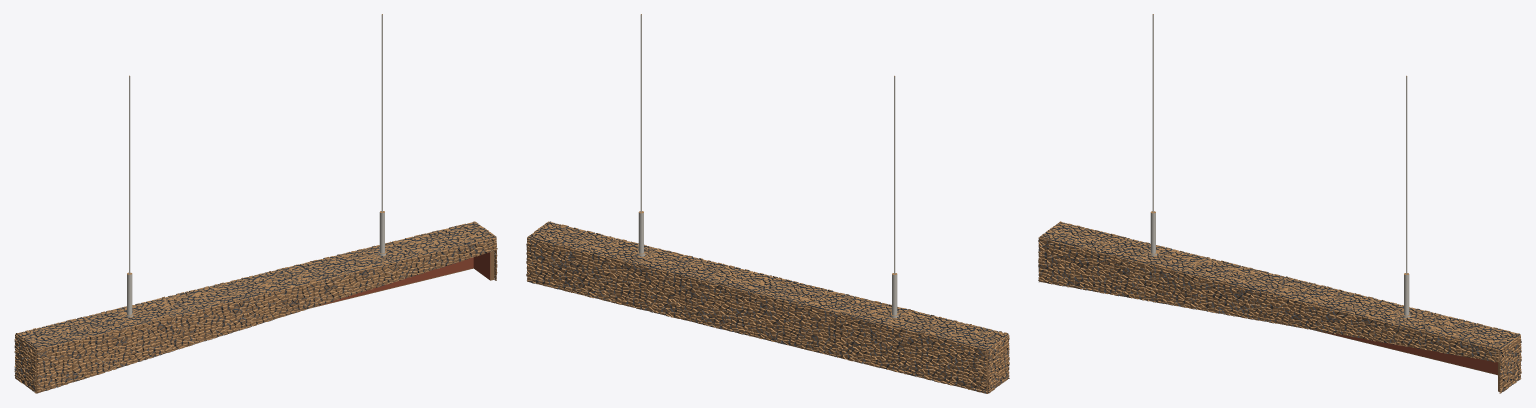
The picture shows the model from 3 angles, left to right: view 1: azimuth 30°, elevation 25°; view 2: azimuth 150°, elevation 25°; view 3: azimuth 330°, elevation 25°; orthographic projection.
Parts seen in each view (by area): view 1: building_2, building_0, building_4, building_1, building_3; view 2: building_0, building_2, building_4, building_1; view 3: building_2, building_0, building_4, building_1, building_3.
Part boxes in pixels (x1,y1,x2,y2): building_2: [14, 14, 496, 392]; building_0: [14, 222, 497, 393]; building_4: [14, 222, 495, 391]; building_1: [15, 14, 494, 393]; building_3: [318, 252, 490, 305]; building_0: [526, 221, 1009, 393]; building_2: [527, 14, 1009, 391]; building_4: [527, 221, 1009, 393]; building_1: [529, 14, 1008, 390]; building_2: [1038, 14, 1521, 392]; building_0: [1038, 222, 1521, 393]; building_4: [1038, 222, 1521, 391]; building_1: [1039, 14, 1520, 391]; building_3: [1321, 331, 1497, 374].
Bounding box in the file's own units: 1.21 × 0.71 × 0.1018.
